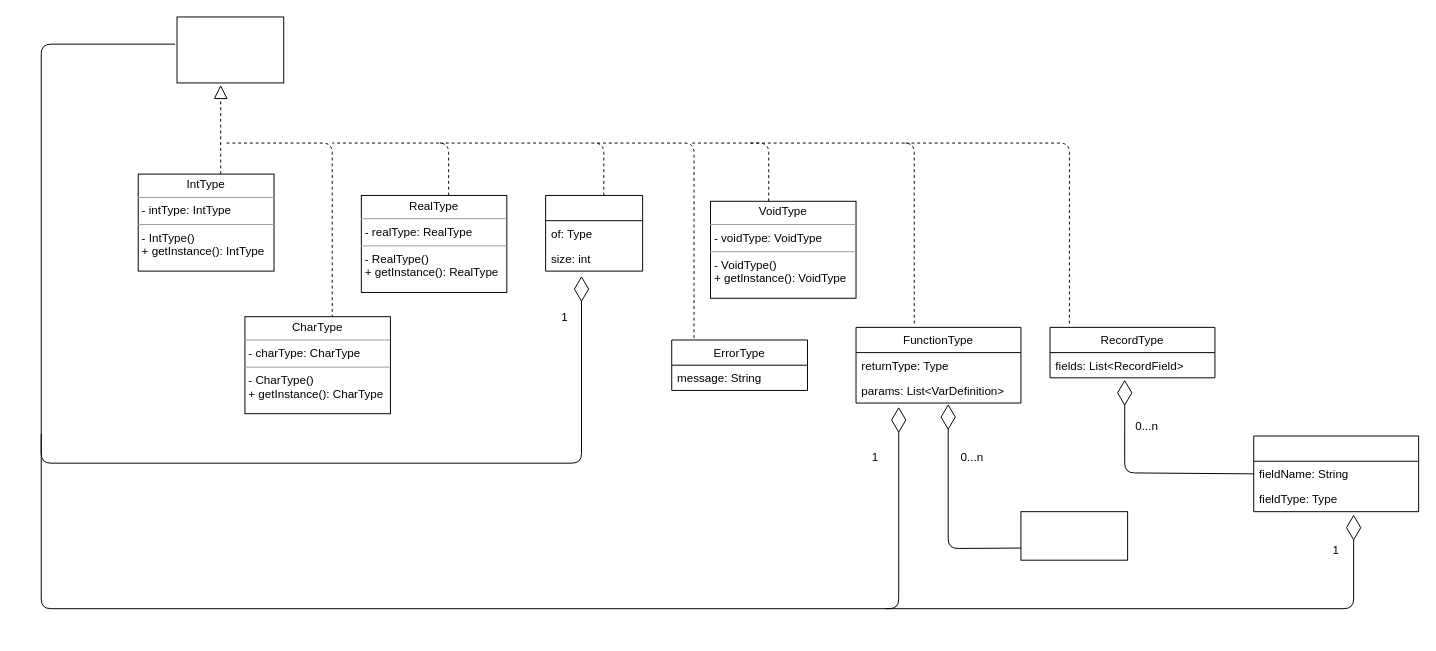
Image size: 1436x651. Some labels were removed from this diagram. The shapes that lost their labels are listed below. From the top down, each one's box as (x1, y1, x2, y2) in pixels, then its label:
(176, 16, 284, 83): <<Interface>> Type getName(): String
(545, 194, 643, 271): ArrayType
(1253, 435, 1419, 512): RecordField
(1020, 511, 1128, 560): VarDefinition
